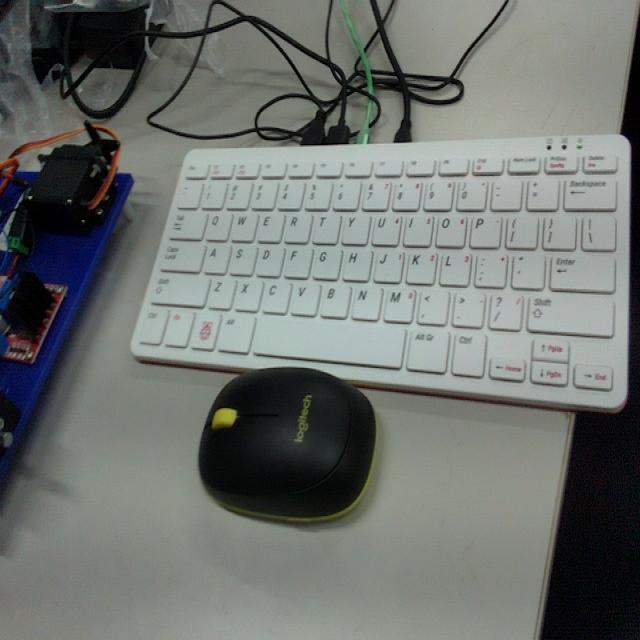keyboard: (134, 145, 624, 395)
